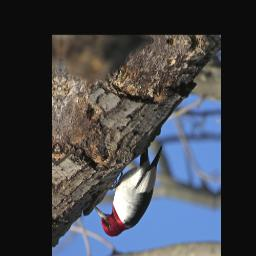Woodpecker: (90, 135, 164, 244)
